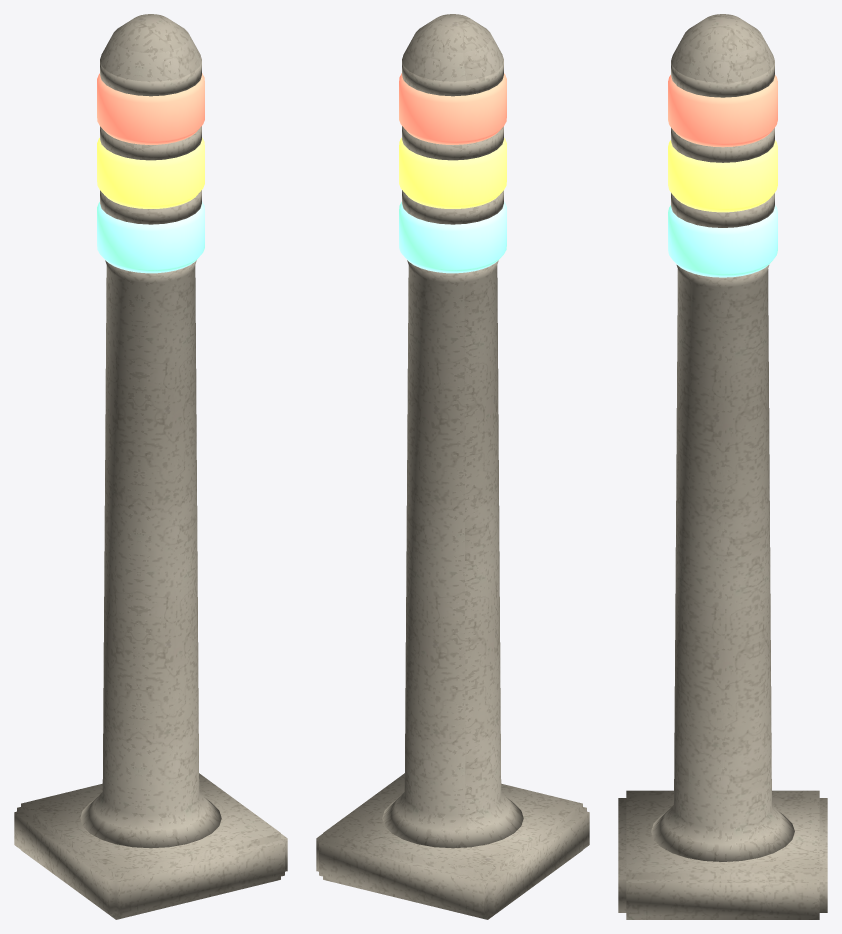
The model's file is signal_column.glb.
3 renders of one model, left to right at view 1: azimuth 30°, elevation 25°; view 2: azimuth 150°, elevation 25°; view 3: azimuth 270°, elevation 25°, orthographic.
Visible parts, largest first — view 1: signal_column; view 2: signal_column; view 3: signal_column.
Part boxes in pixels (x1=…): signal_column: x1=14, y1=14, x2=287, y2=919; signal_column: x1=316, y1=14, x2=589, y2=919; signal_column: x1=618, y1=14, x2=827, y2=919.
Bounding box in the file's own units: 0.32 × 1.45 × 0.32.
Materials: 4 (1 with a texture image).
